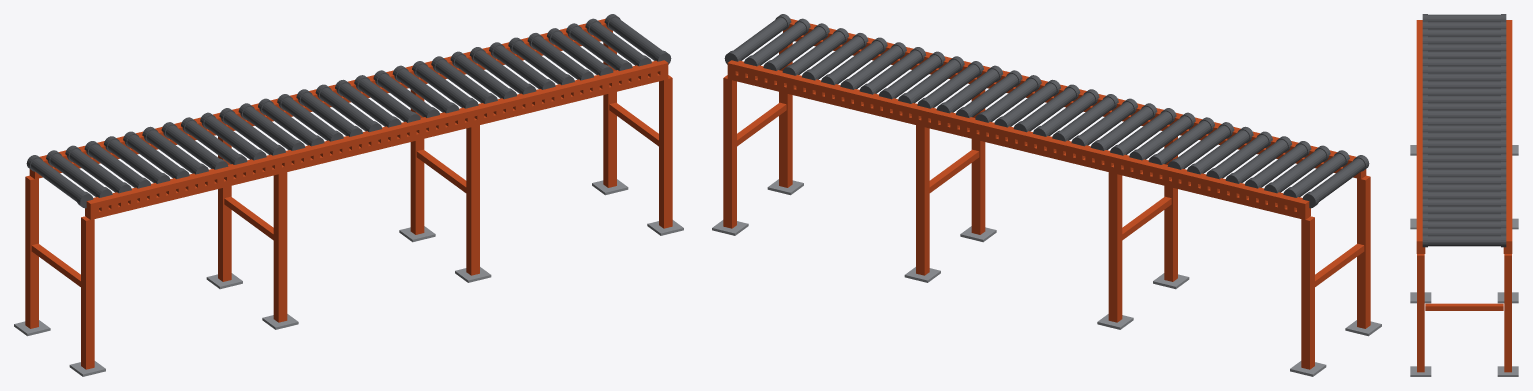
The model's file is case-conveyor-3d.glb.
3 views of the same model, side by side, from view 1: azimuth 30°, elevation 25°; view 2: azimuth 150°, elevation 25°; view 3: azimuth 270°, elevation 25° (orthographic). The views are drawn at different scales.
Parts seen in each view (by area): view 1: frame, rollers, feet; view 2: frame, rollers, feet; view 3: rollers, frame, feet.
Boxes of the visible parts, x1=… form: frame: x1=25, y1=18, x2=672, y2=369; rollers: x1=26, y1=14, x2=671, y2=208; feet: x1=14, y1=179, x2=683, y2=376; frame: x1=723, y1=18, x2=1370, y2=369; rollers: x1=724, y1=14, x2=1369, y2=208; feet: x1=712, y1=179, x2=1381, y2=376; rollers: x1=1422, y1=14, x2=1506, y2=247; frame: x1=1416, y1=20, x2=1512, y2=372; feet: x1=1410, y1=145, x2=1518, y2=376.
Size of the model in its own units: 3.12 by 0.8645 by 0.62.
